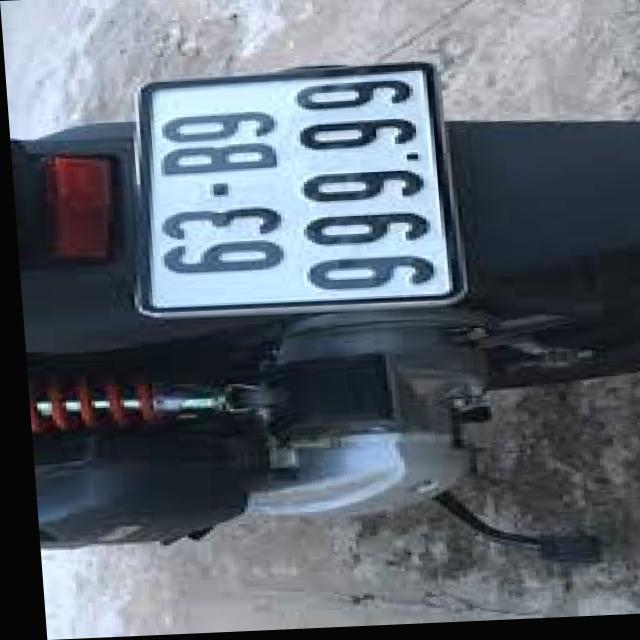a: (112, 58, 481, 319)
bien so: (110, 52, 470, 309)
